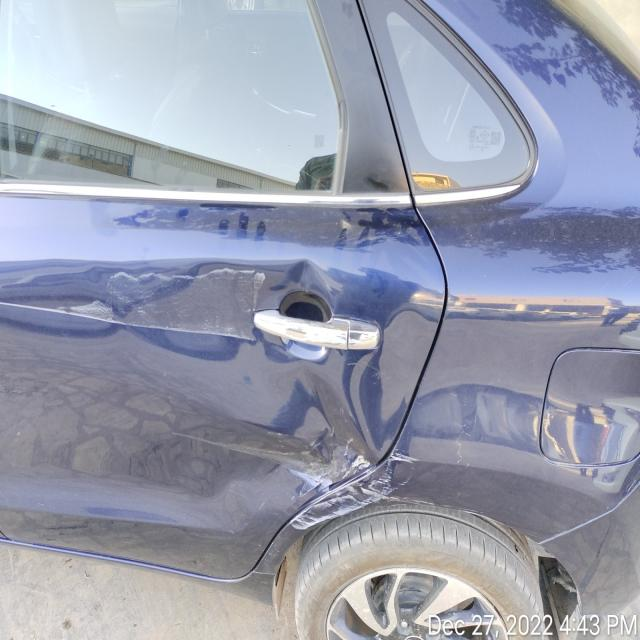damage: (265, 261, 438, 530)
